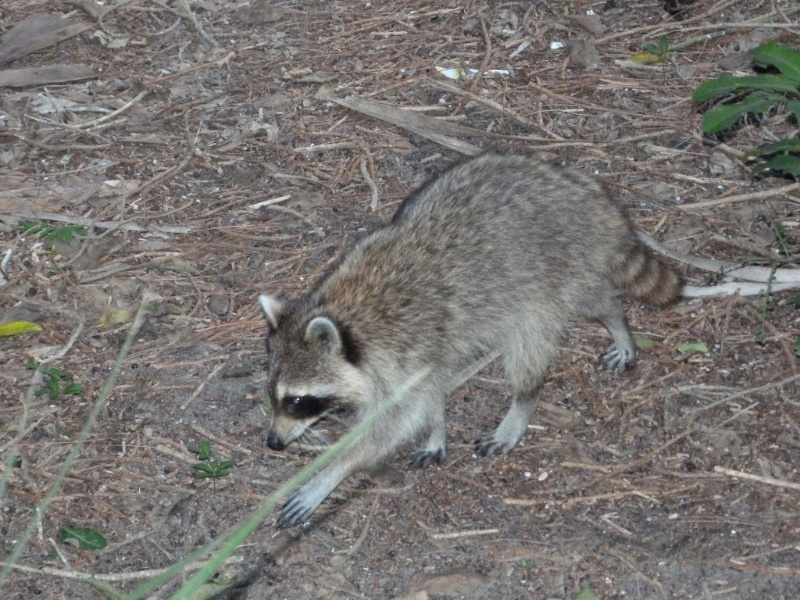raccoon: (255, 144, 688, 535)
